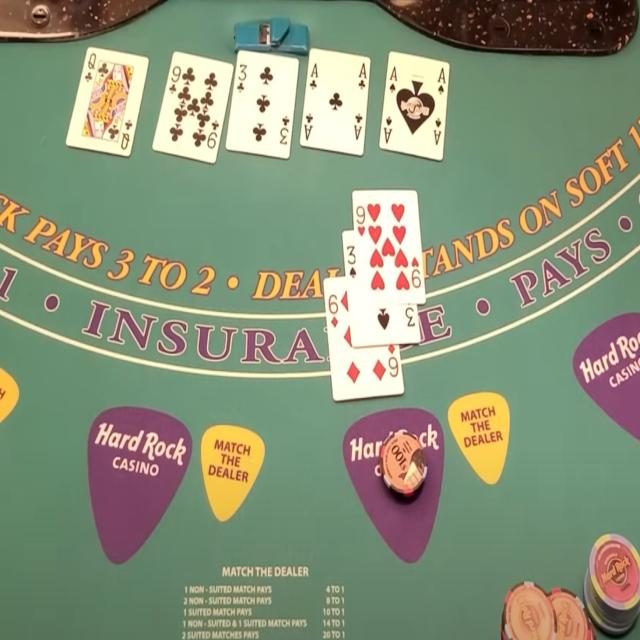3: (346, 243, 358, 266), (237, 62, 249, 82)
6: (326, 292, 340, 315)
9: (354, 205, 366, 226), (170, 64, 182, 84)
A: (309, 60, 320, 80), (388, 64, 399, 83)
Q: (86, 50, 97, 71)
